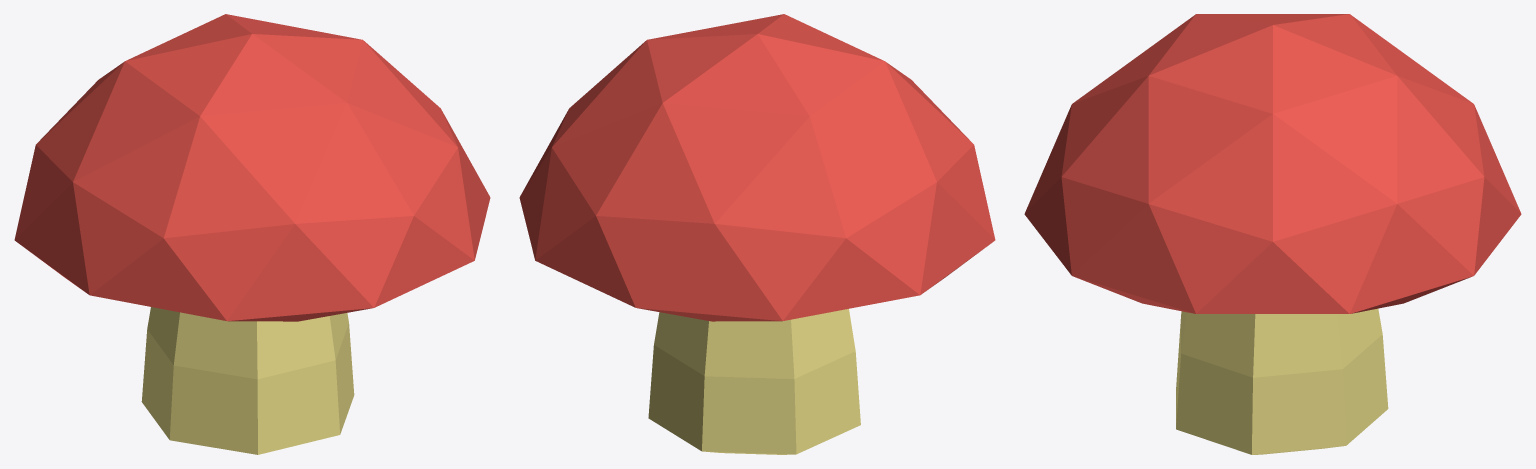
Rendered from Mushroom_Red.fbx.
3 renders of one model, left to right at view 1: azimuth 30°, elevation 25°; view 2: azimuth 150°, elevation 25°; view 3: azimuth 270°, elevation 25°, orthographic. The views are drawn at different scales.
Parts seen in each view (by area): view 1: Mushroom_Red; view 2: Mushroom_Red; view 3: Mushroom_Red.
Boxes of the visible parts, x1,y1,x2,y2 form: Mushroom_Red: [14, 14, 490, 454]; Mushroom_Red: [519, 14, 995, 454]; Mushroom_Red: [1024, 14, 1521, 454].
Bounding box in the file's own units: 43.16 × 40.32 × 45.39.
